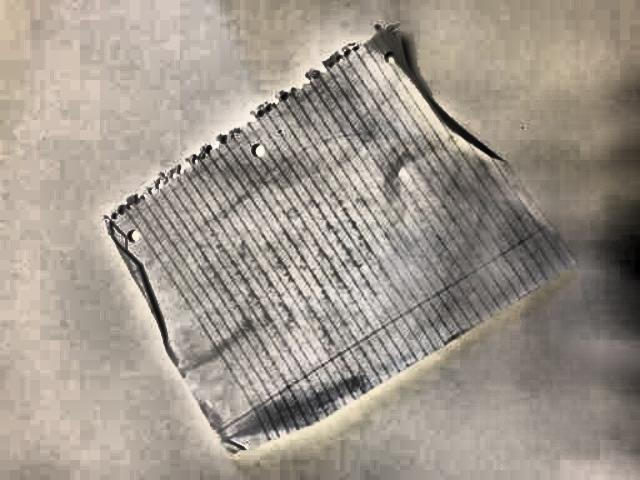Paper: (92, 26, 585, 451)
